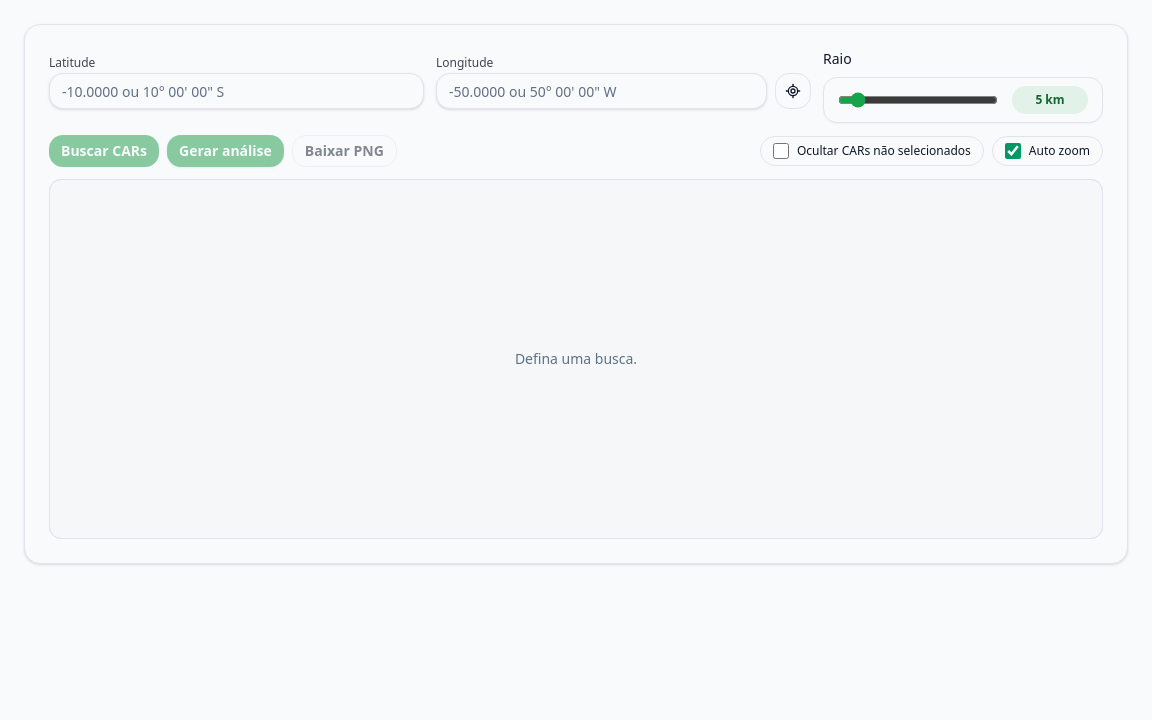
Scenario: NewAnalysisView › separa latitude e longitude ao colar coordenadas decimais no campo de latitude
In the field with test id "gps-lat": [236, 91] box [49,73,424,109], type "-20.557683, -48.769517"
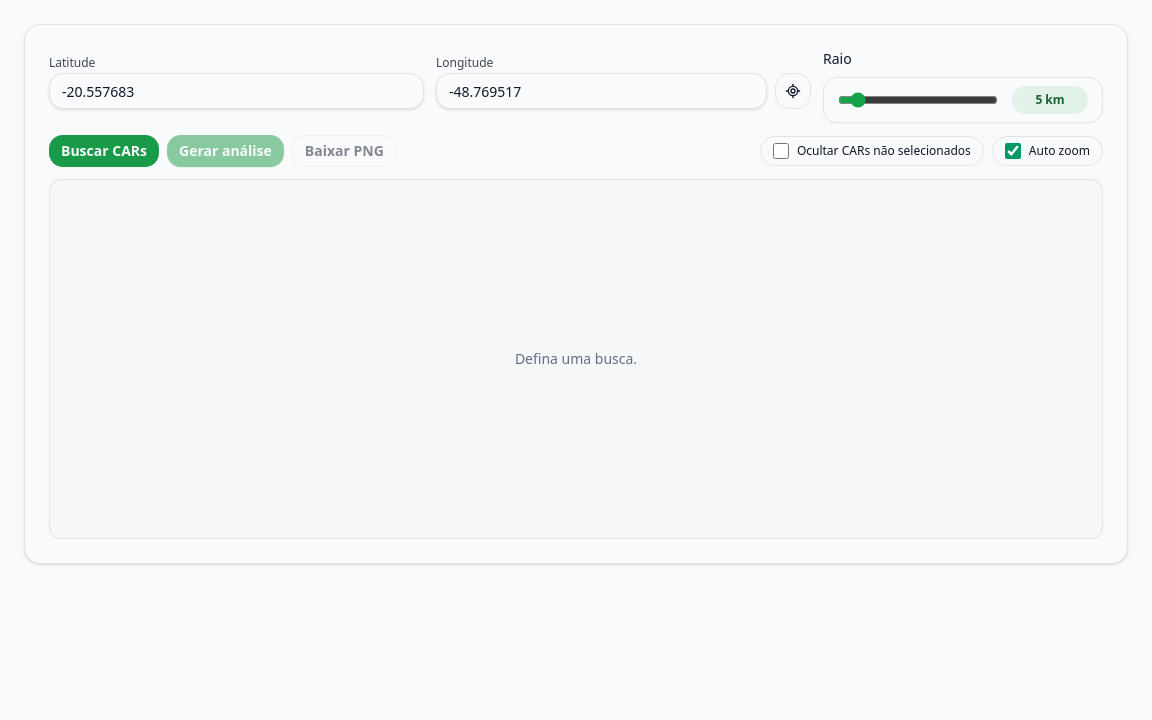
Now the field with test id "gps-lat" holds "-20.557683", box [49,73,424,109]
Now the field with test id "gps-lng" holds "-48.769517", box [436,73,767,109]
